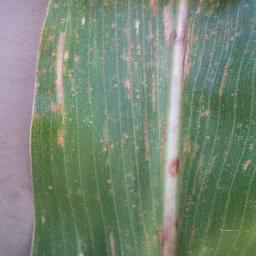Gray_Leaf_Spot: (8, 0, 79, 152), (119, 0, 157, 109), (155, 0, 201, 74), (136, 113, 166, 181), (159, 130, 196, 179), (99, 111, 116, 195), (211, 61, 240, 110), (154, 217, 186, 249), (103, 225, 133, 256), (81, 36, 106, 68), (155, 118, 173, 150), (68, 233, 91, 256), (240, 152, 256, 178), (202, 0, 221, 18), (195, 104, 218, 117), (46, 175, 60, 196), (37, 213, 50, 226)
